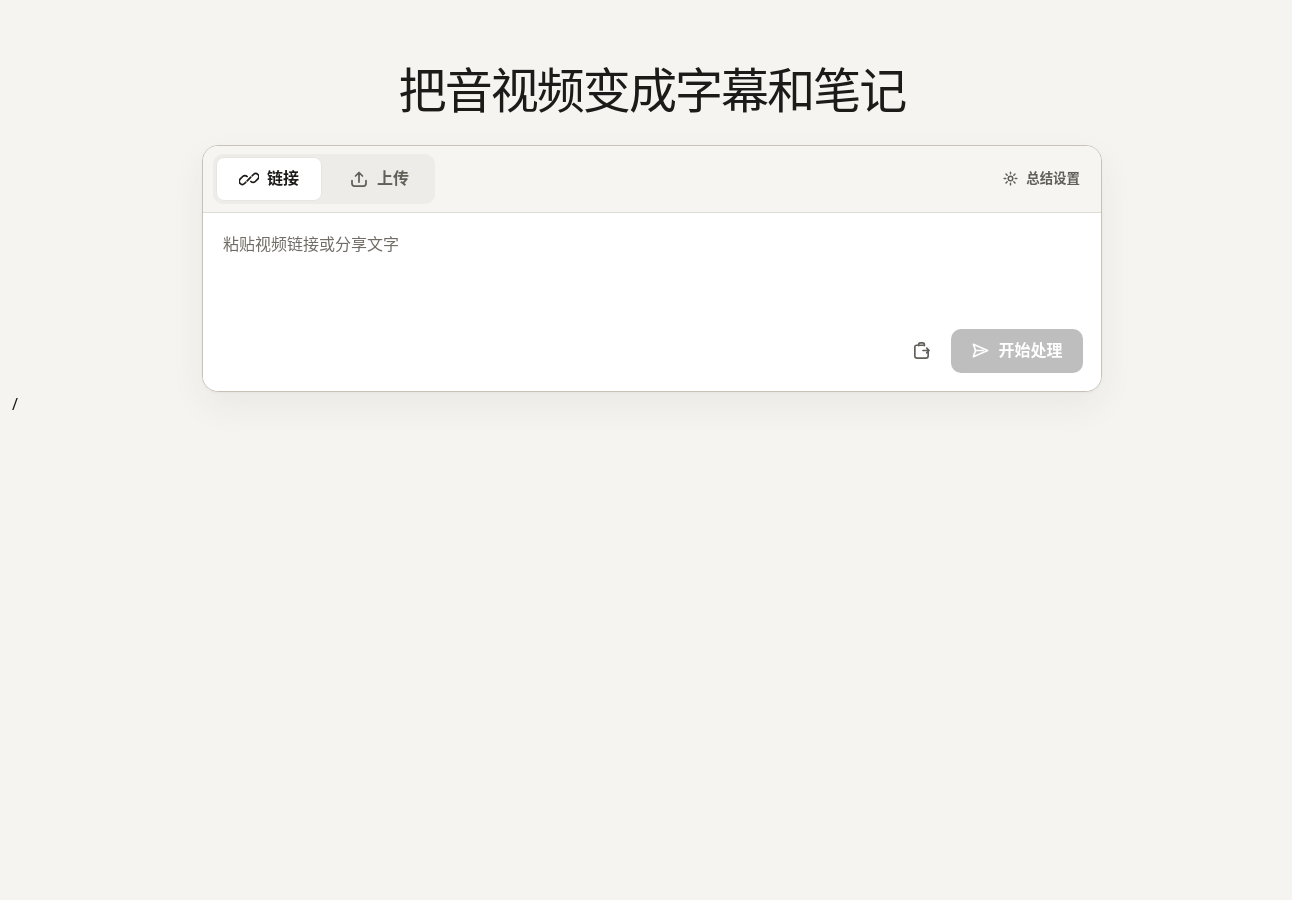
Scenario: CreateTaskPage › creates a 130-video collection in API-sized batches
Expected: the tab "链接" is shown, [216,157,322,201]
Type "https://space.bilibili.com/2142762/lists/3662502?type=season" into the text box named "视频链接或分享文本".
click(652, 270); type("https://space.bilibili.com/2142762/lists/3662502?type=season")  # box [221,231,1083,310]
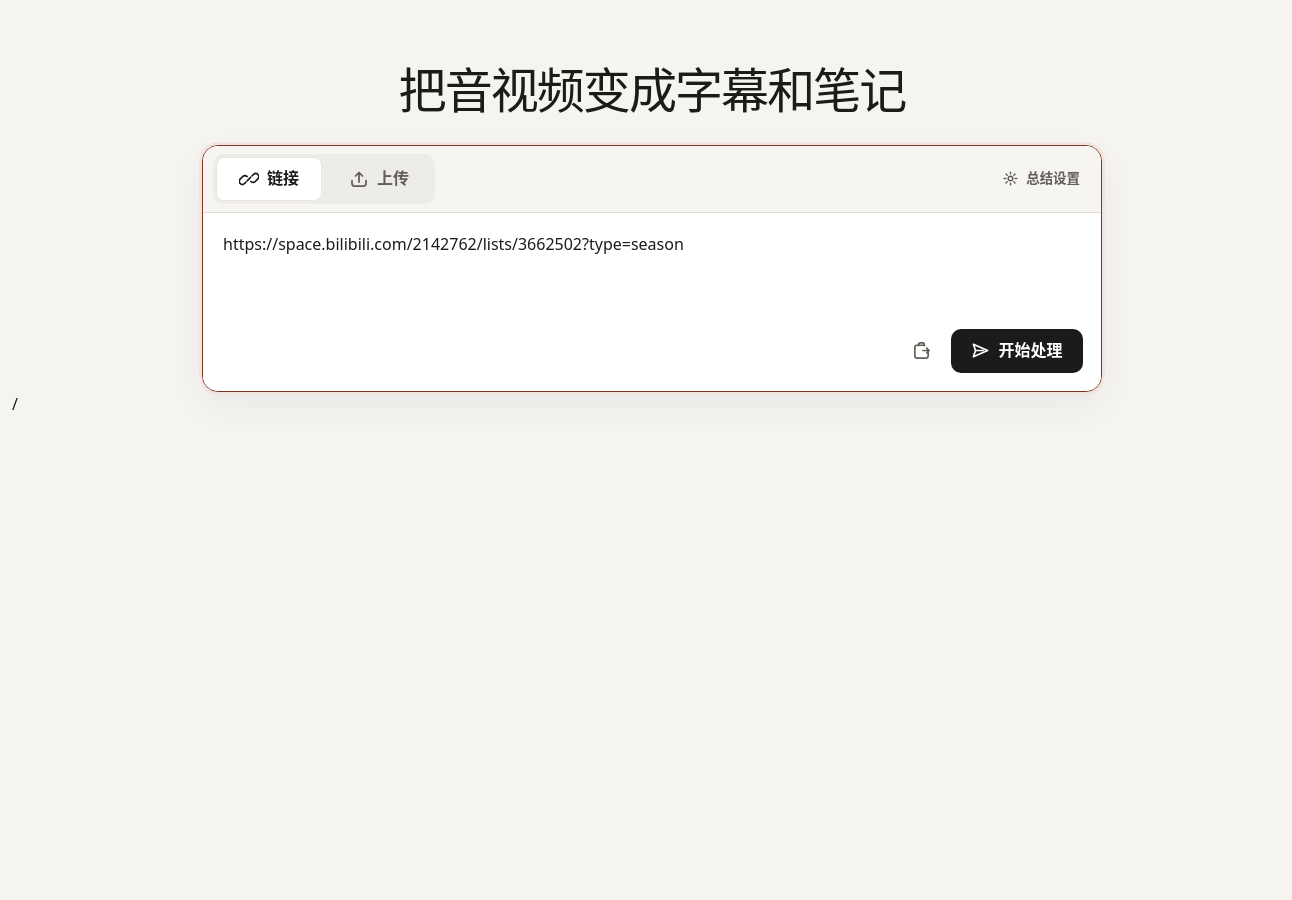
Click the button "开始处理".
click(1017, 351)  # box [951,329,1083,373]
(page scrolled)
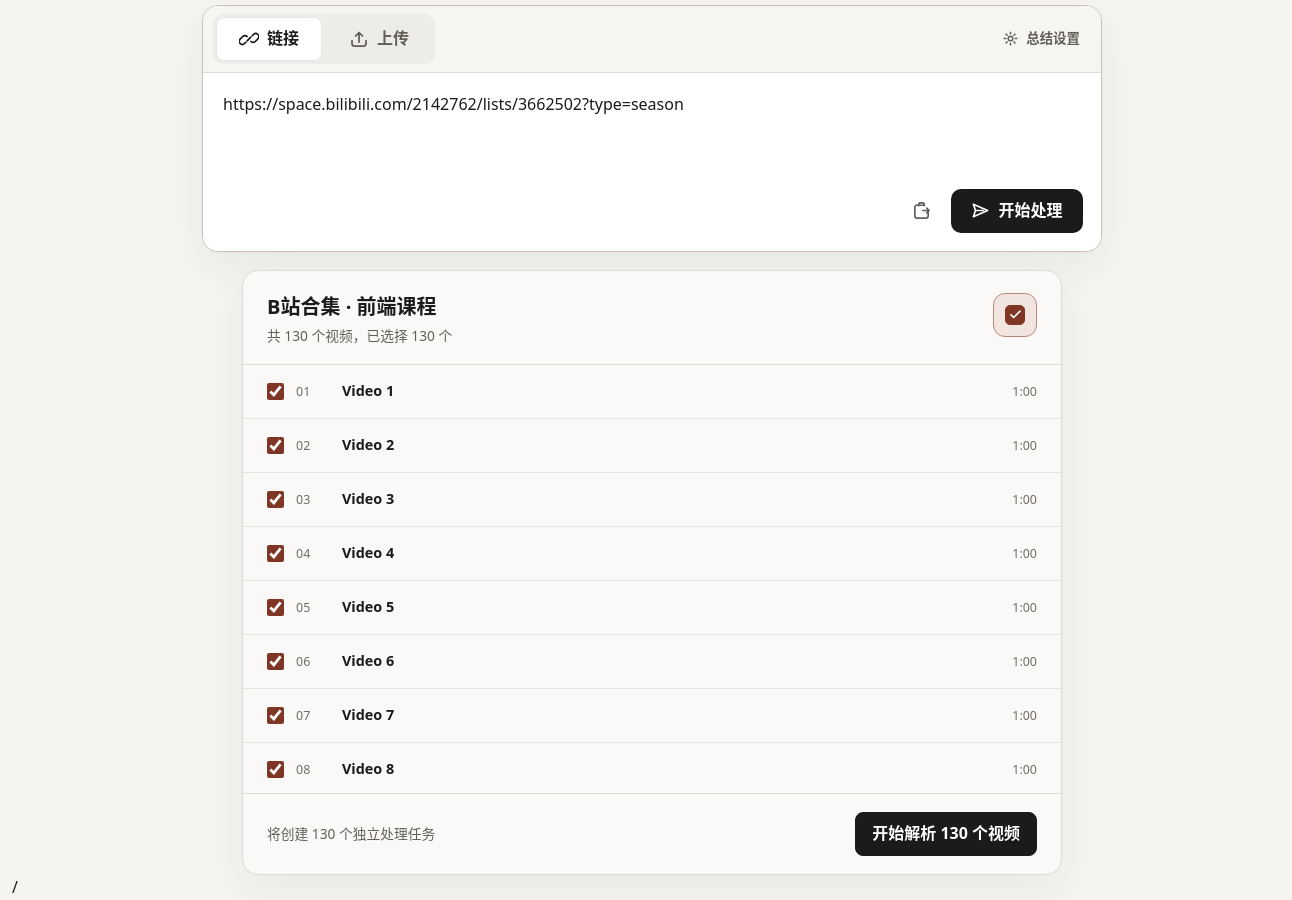
Expected: the text "共 130 个视频，已选择 130 个" is shown, [267,325,452,346]
Click the button "开始解析 130 个视频".
click(946, 834)  # box [855,812,1037,856]
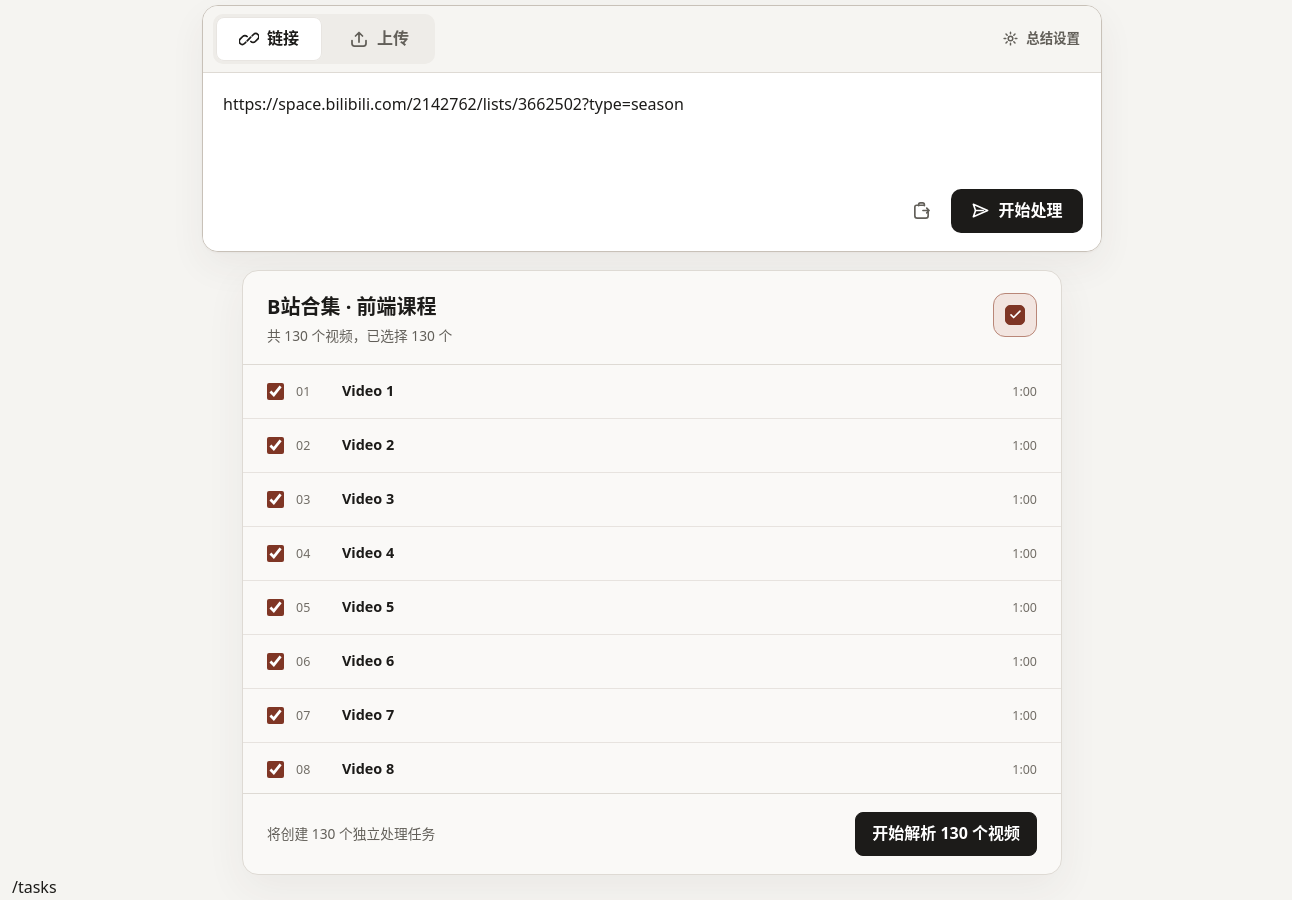
Expected: the text with test id "current-path" reads "/tasks", [12,876,57,898]
